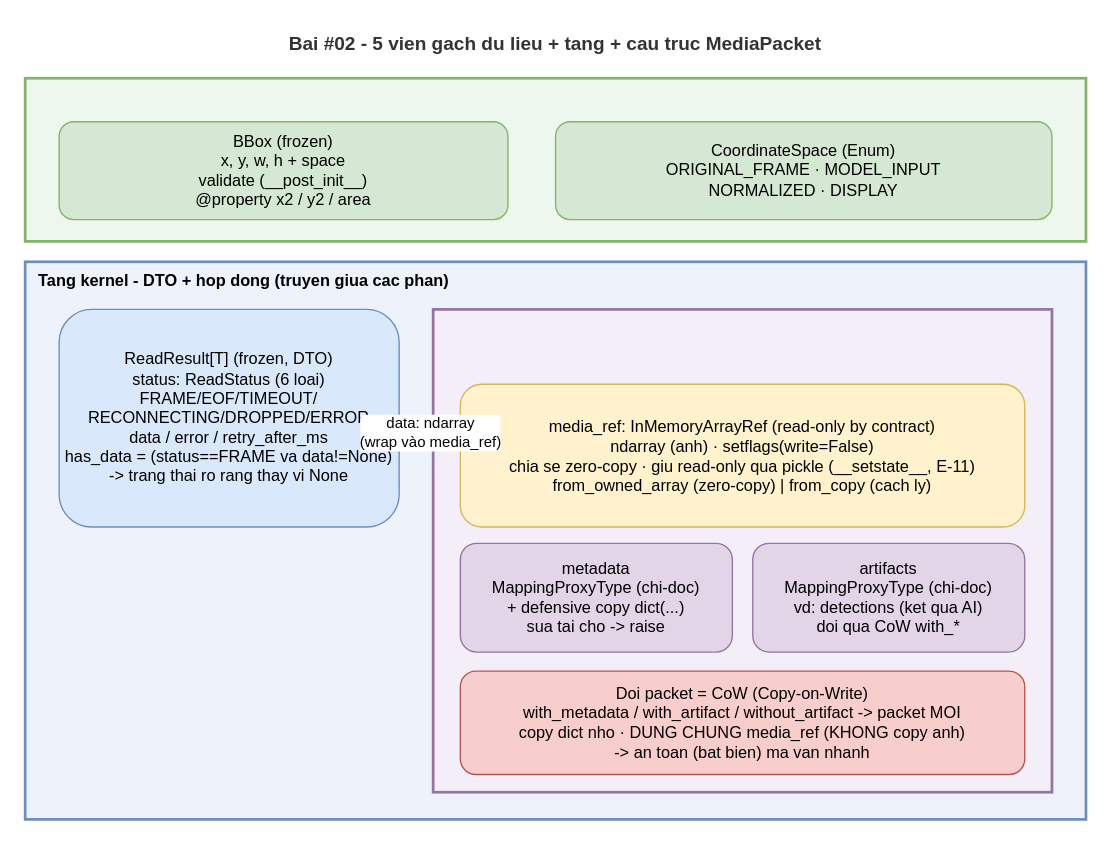
This 1110x843 diagram has some shape labels left out. The shapes that lost their labels are listed below. From the top down, each one's box as (x1, y1, x2, y2) in pixels, then its label:
(23, 76, 1087, 242): Tang domain - logic/gia tri thuan (khong I/O)
(431, 307, 1053, 793): MediaPacket (frozen - bat bien) packet_id · source_id · capture_time_ns
